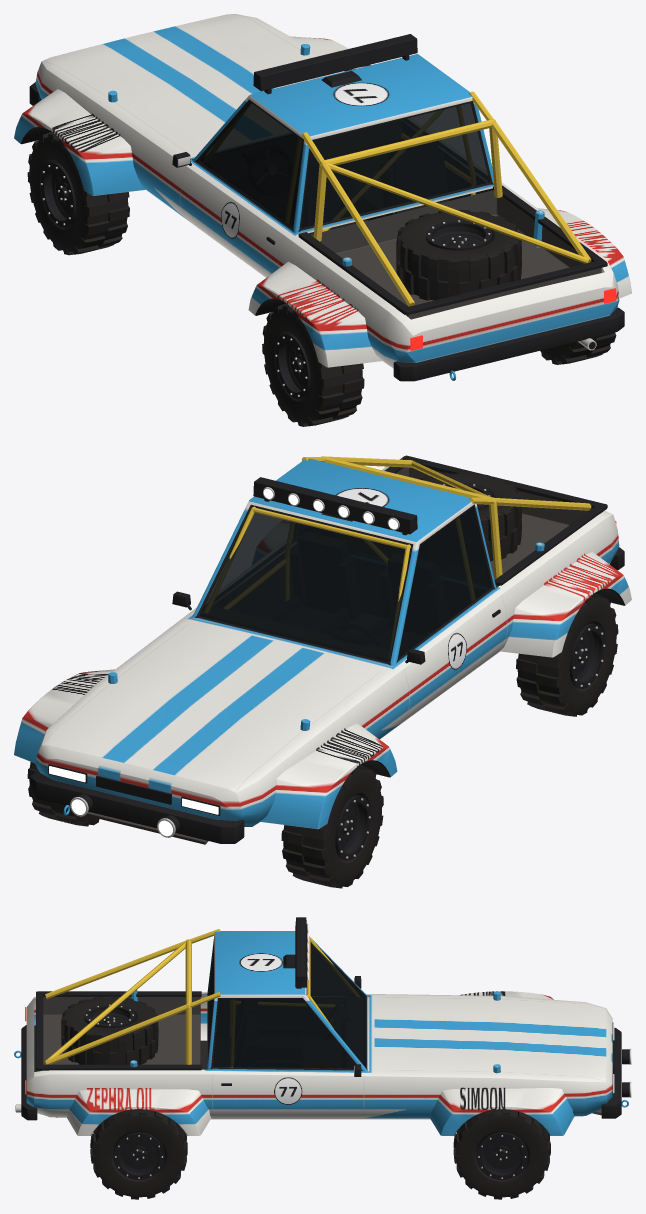
Rendered from CAR-024_Export.fbx.
3 renders of one model, top to bottom at view 1: azimuth 30°, elevation 25°; view 2: azimuth 150°, elevation 25°; view 3: azimuth 270°, elevation 25°, orthographic. The views are drawn at different scales.
Parts seen in each view (by area): view 1: CAR-024_Body, CAR-024_Accessories, CAR-024_Glass, CAR-024_SpareWheel, CAR-024_Wheel_RL_Tire, CAR-024_Wheel_FL_Tire, CAR-024_Bumper_Rear, CAR-024_Wheel_RL_Rim, CAR-024_Wheel_FL_Rim, CAR-024_Wheel_RR_Tire, CAR-024_Trim; view 2: CAR-024_Body, CAR-024_Glass, CAR-024_Accessories, CAR-024_Wheel_FL_Tire, CAR-024_Wheel_RL_Tire, CAR-024_Bumper_Front, CAR-024_SpareWheel, CAR-024_Wheel_FL_Rim, CAR-024_Wheel_RL_Rim, CAR-024_Lights, CAR-024_Interior, CAR-024_Trim (+1 smaller); view 3: CAR-024_Body, CAR-024_Glass, CAR-024_Accessories, CAR-024_Wheel_RR_Tire, CAR-024_Wheel_FR_Tire, CAR-024_SpareWheel, CAR-024_Wheel_RR_Rim, CAR-024_Wheel_FR_Rim, CAR-024_Bumper_Front, CAR-024_Bumper_Rear, CAR-024_Lights, CAR-024_Trim.
Part boxes in pixels (box(x1,y1,x2,y2)): CAR-024_Body: box(14, 14, 631, 368); CAR-024_Accessories: box(108, 34, 607, 319); CAR-024_Glass: box(200, 102, 489, 227); CAR-024_SpareWheel: box(396, 209, 521, 300); CAR-024_Wheel_RL_Tire: box(262, 303, 364, 426); CAR-024_Wheel_FL_Tire: box(27, 132, 129, 255); CAR-024_Bumper_Rear: box(393, 307, 624, 381); CAR-024_Wheel_RL_Rim: box(275, 333, 310, 398); CAR-024_Wheel_FL_Rim: box(40, 161, 76, 227); CAR-024_Wheel_RR_Tire: box(540, 306, 617, 364); CAR-024_Trim: box(266, 70, 596, 380); CAR-024_Body: box(14, 458, 631, 829); CAR-024_Glass: box(200, 507, 491, 661); CAR-024_Accessories: box(85, 455, 607, 844); CAR-024_Wheel_FL_Tire: box(281, 765, 383, 888); CAR-024_Wheel_RL_Tire: box(516, 593, 618, 716); CAR-024_Bumper_Front: box(29, 770, 244, 843); CAR-024_SpareWheel: box(419, 472, 521, 561); CAR-024_Wheel_FL_Rim: box(335, 795, 370, 860); CAR-024_Wheel_RL_Rim: box(569, 623, 605, 688); CAR-024_Lights: box(48, 520, 616, 837); CAR-024_Interior: box(229, 506, 410, 601); CAR-024_Trim: box(63, 513, 500, 815); CAR-024_Body: box(26, 931, 612, 1135); CAR-024_Glass: box(208, 942, 365, 1068); CAR-024_Accessories: box(36, 917, 601, 1115); CAR-024_Wheel_RR_Tire: box(90, 1109, 187, 1199); CAR-024_Wheel_FR_Tire: box(453, 1109, 550, 1199); CAR-024_SpareWheel: box(61, 996, 158, 1064); CAR-024_Wheel_RR_Rim: box(113, 1132, 164, 1179); CAR-024_Wheel_FR_Rim: box(476, 1132, 528, 1179); CAR-024_Bumper_Front: box(601, 1027, 621, 1118); CAR-024_Bumper_Rear: box(21, 1025, 37, 1120); CAR-024_Lights: box(25, 1007, 631, 1097); CAR-024_Trim: box(14, 954, 628, 1112).
Bounding box in the file's own units: 2.54 × 2.02 × 5.72.
15 materials, 1 textured.
